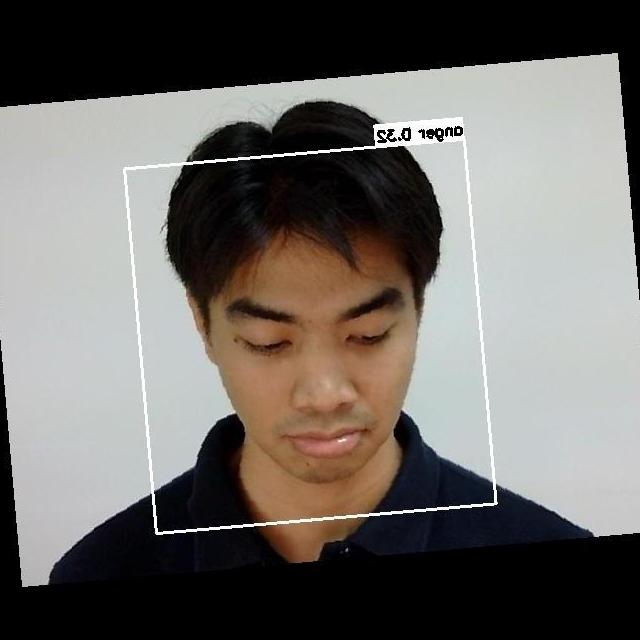Sad: (198, 262, 433, 474)
